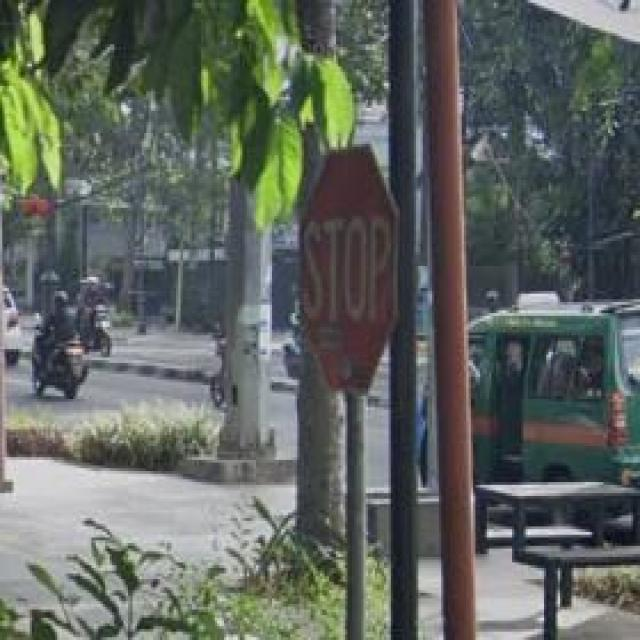traffic sign: (297, 147, 400, 402)
